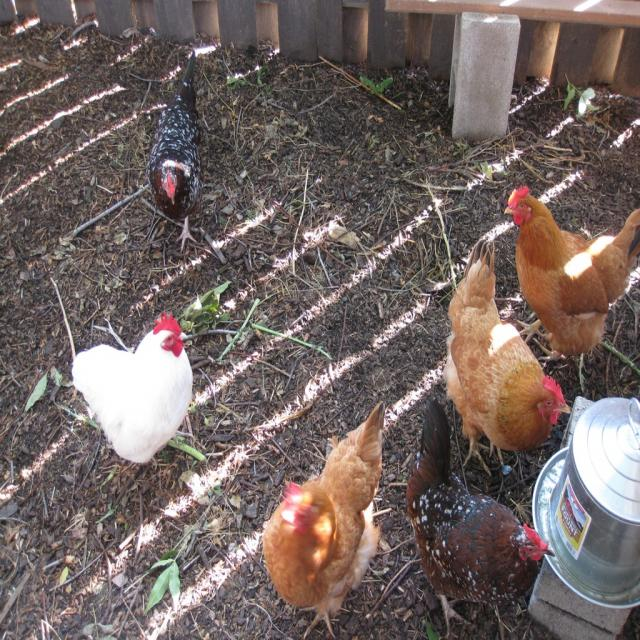Chicken: (406, 396, 556, 640), (262, 398, 384, 640), (452, 274, 572, 483), (503, 185, 640, 362), (71, 308, 194, 463), (147, 52, 202, 251)
